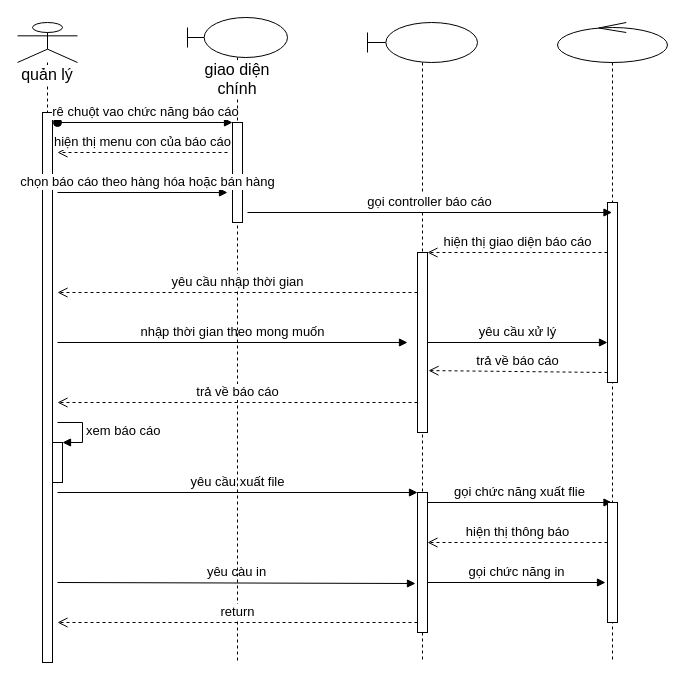
Some shapes in this 685 by 680 pixel diagram are drawn without their labels. Here are the shapes that lost their labels. From the top down, the box of each, then its label:
(366, 22, 478, 662): giao diện báo cáo
(556, 22, 668, 662): contrller báo cáo
